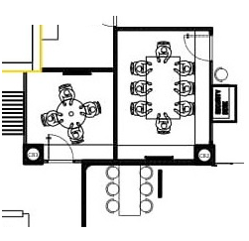Seat: (55, 81, 78, 106), (38, 109, 65, 129), (80, 99, 106, 118), (67, 120, 88, 143), (128, 58, 153, 76), (128, 78, 153, 96), (155, 111, 173, 135), (173, 99, 197, 117), (174, 79, 196, 97), (156, 39, 172, 63), (130, 99, 152, 116), (174, 59, 196, 76)
